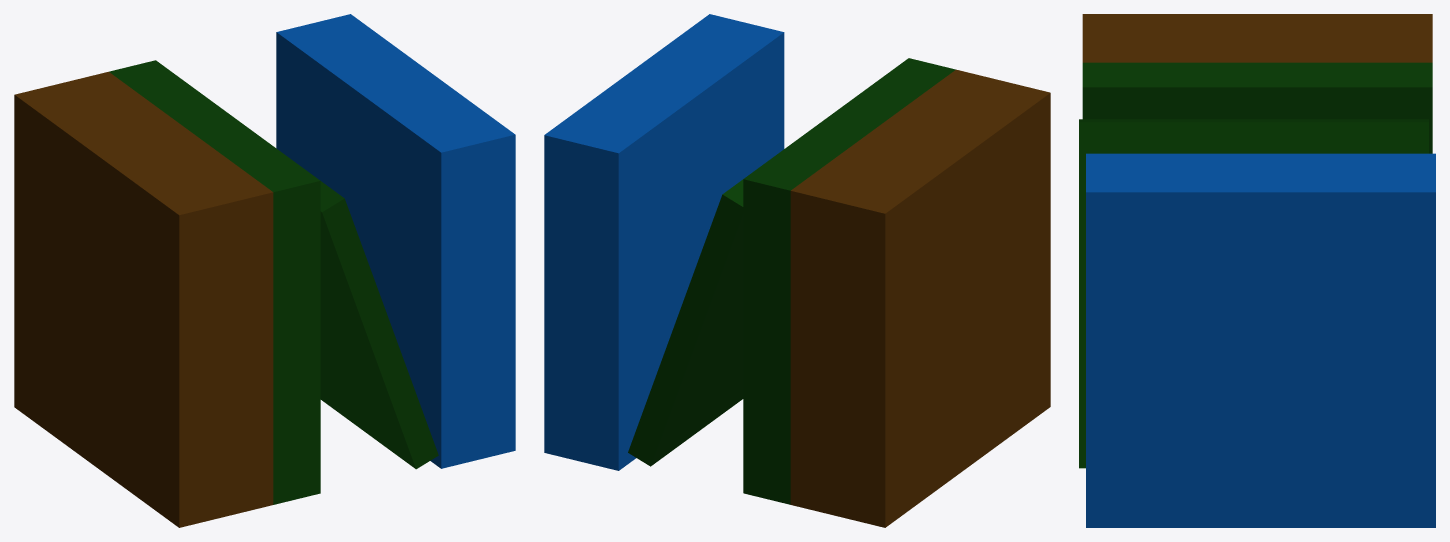
Rendered from Books2.fbx.
The picture shows the model from 3 angles, left to right: view 1: azimuth 30°, elevation 25°; view 2: azimuth 150°, elevation 25°; view 3: azimuth 270°, elevation 25°; orthographic projection. The views are drawn at different scales.
Visible parts, largest first — view 1: Books2; view 2: Books2; view 3: Books2.
Part boxes in pixels (x1,y1,x2,y2): Books2: (14,14,515,527); Books2: (544,14,1050,527); Books2: (1079,14,1435,527).
Size of the model in its own units: 1.76 by 1.59 by 1.52.
